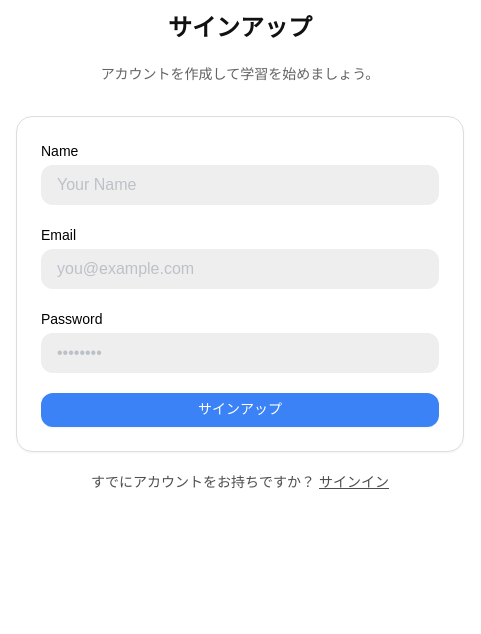
SignUp Component › 失敗：field errors + message を表示し、ボタン状態も戻る（navigate なし / token 未保存）
This screenshot has width=481, height=634.
Step 1. Type "Taro" into the field labelled "Name" → x=240, y=185, box [41,165,439,205]
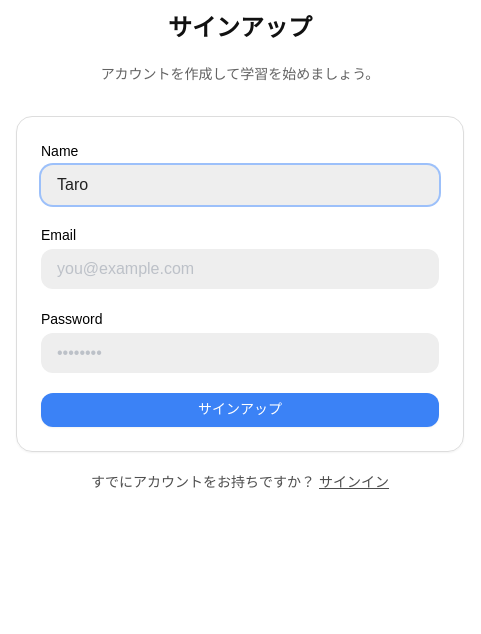
Step 2. Type "taro@example.com" into the field labelled "Email" → x=240, y=269, box [41,249,439,289]
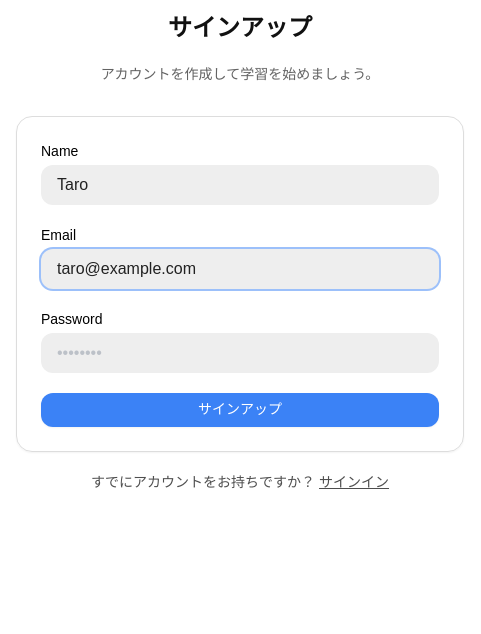
Step 3. Type "password123" into the password field labelled "Password" → x=240, y=353, box [41,333,439,373]
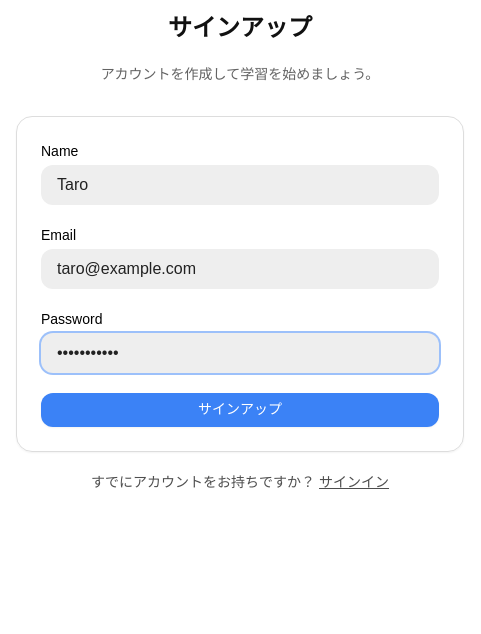
Step 4. Click the button "サインアップ" → x=240, y=410, box [41,393,439,426]
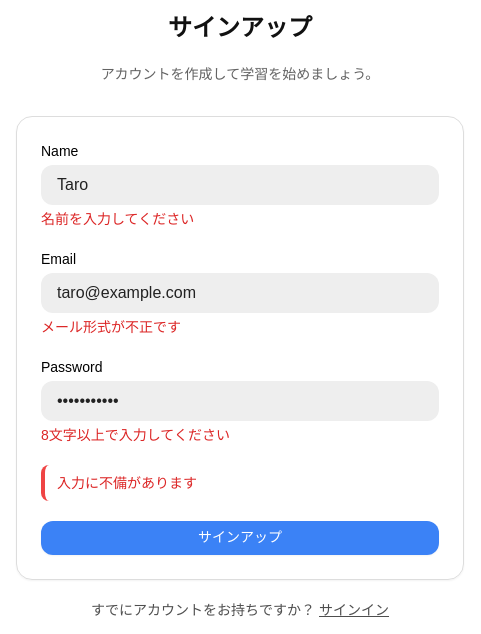
Check: the text "入力に不備があります" is shown, box [41,465,439,501]
Check: the text "名前を入力してください" is shown, box [41,211,194,227]
Check: the text "メール形式が不正です" is shown, box [41,319,181,335]
